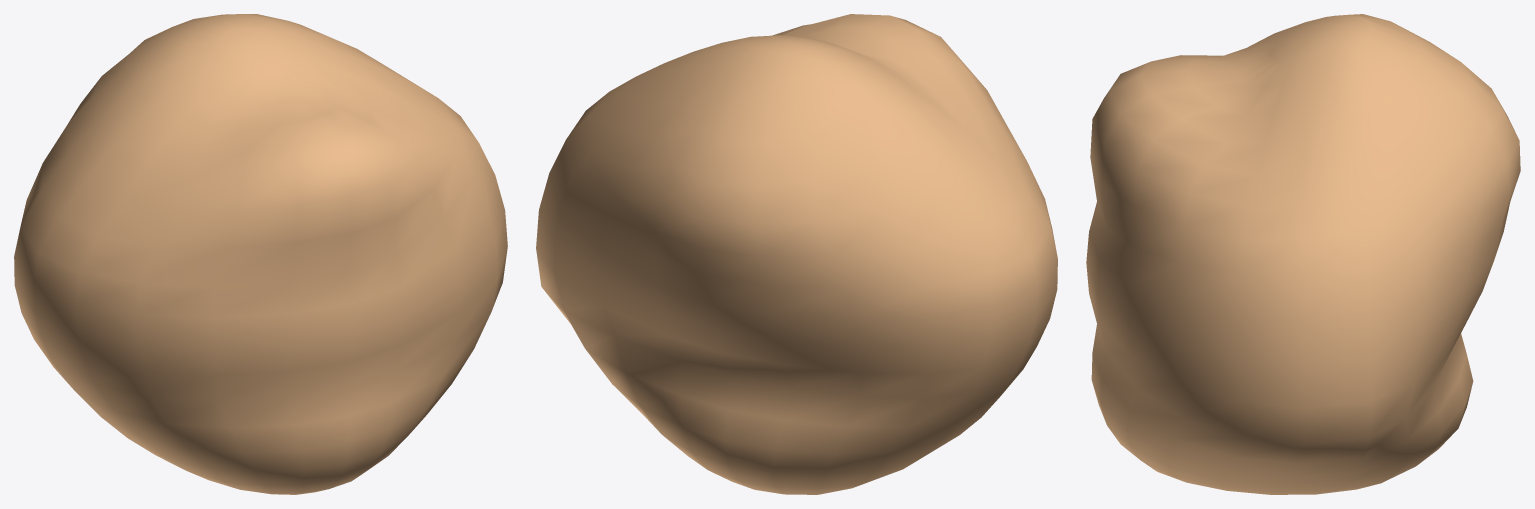
The model's file is CrumbSmall2.fbx.
3 renders of one model, left to right at view 1: azimuth 30°, elevation 25°; view 2: azimuth 150°, elevation 25°; view 3: azimuth 270°, elevation 25°, orthographic. The views are drawn at different scales.
Visible parts, largest first — view 1: pSphere3; view 2: pSphere3; view 3: pSphere3.
Boxes of the visible parts, x1,y1,x2,y2 form: pSphere3: [14, 14, 507, 494]; pSphere3: [536, 14, 1057, 494]; pSphere3: [1086, 14, 1520, 494].
Bounding box in the file's own units: 0.5133 × 0.4514 × 0.3976.
